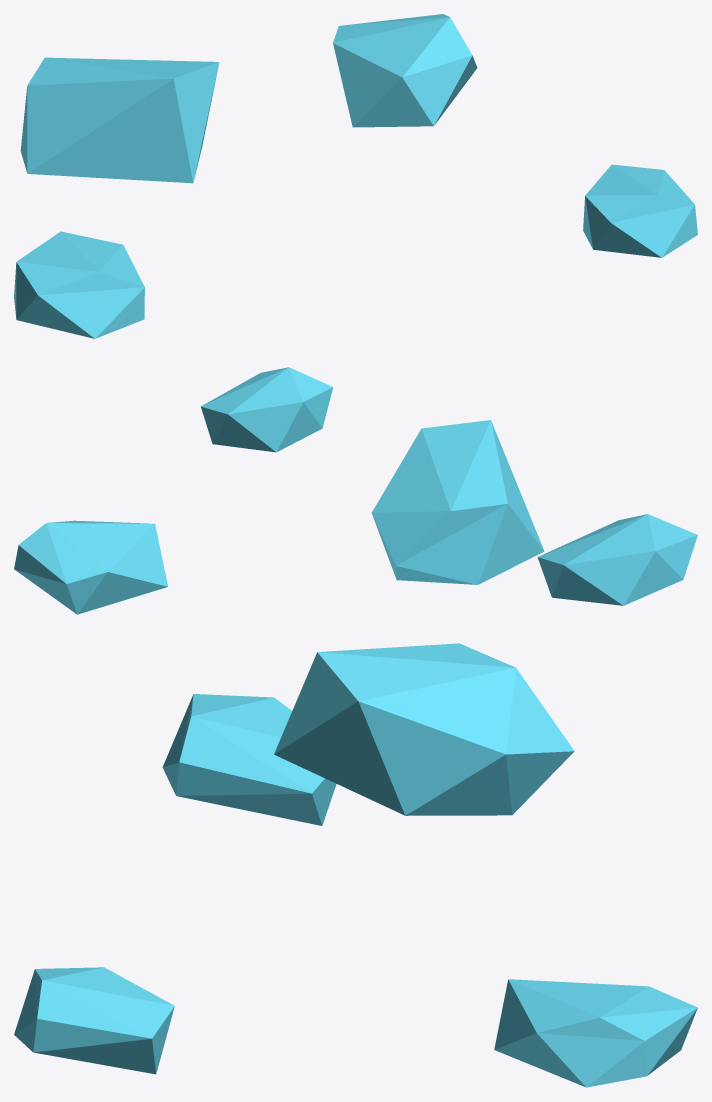
The model's file is Gem_01_rock.FBX.
3 views of the same model, one above another, from view 1: azimuth 30°, elevation 25°; view 2: azimuth 150°, elevation 25°; view 3: azimuth 270°, elevation 25° (orthographic). The views are drawn at different scales.
Visible parts, largest first — view 1: Gem_01_rock; view 2: Gem_01_rock; view 3: Gem_01_rock.
Boxes of the visible parts, x1,y1,x2,y2 form: Gem_01_rock: (14,14,697,338); Gem_01_rock: (14,367,697,614); Gem_01_rock: (14,643,697,1087).
Size of the model in its own units: 47.04 by 14.54 by 40.15.
